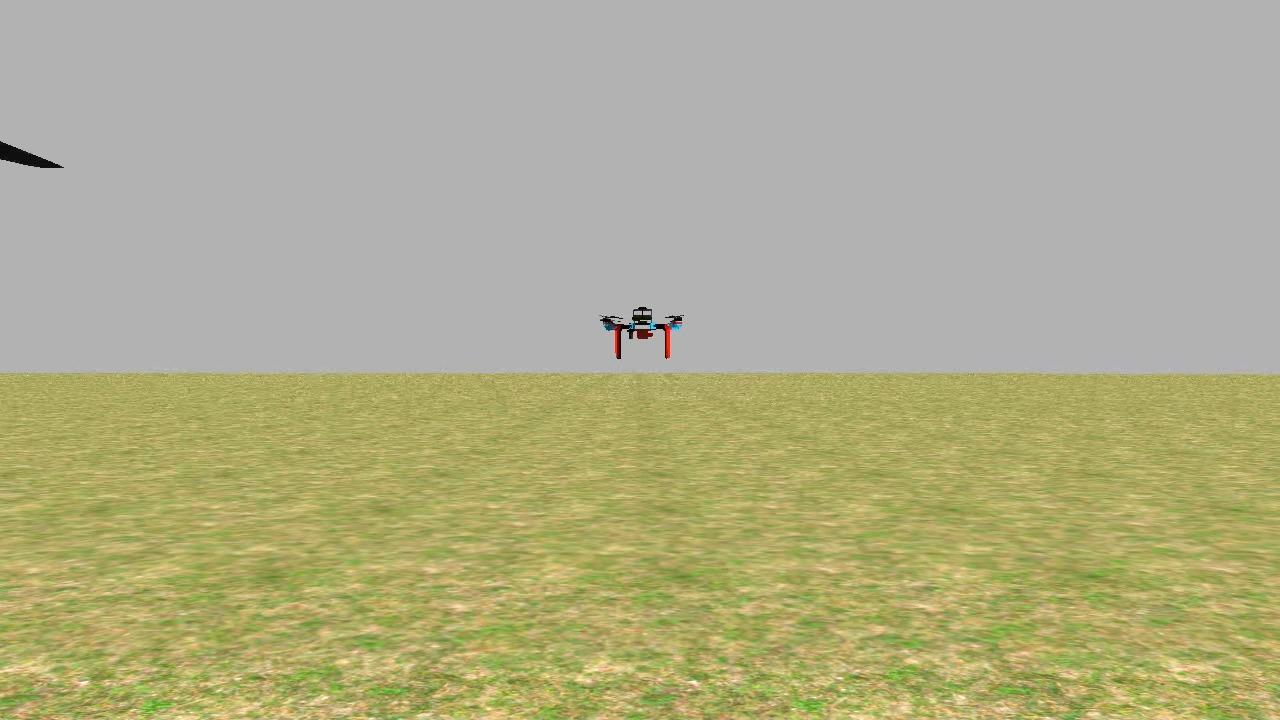UAV: (597, 299, 690, 368)
